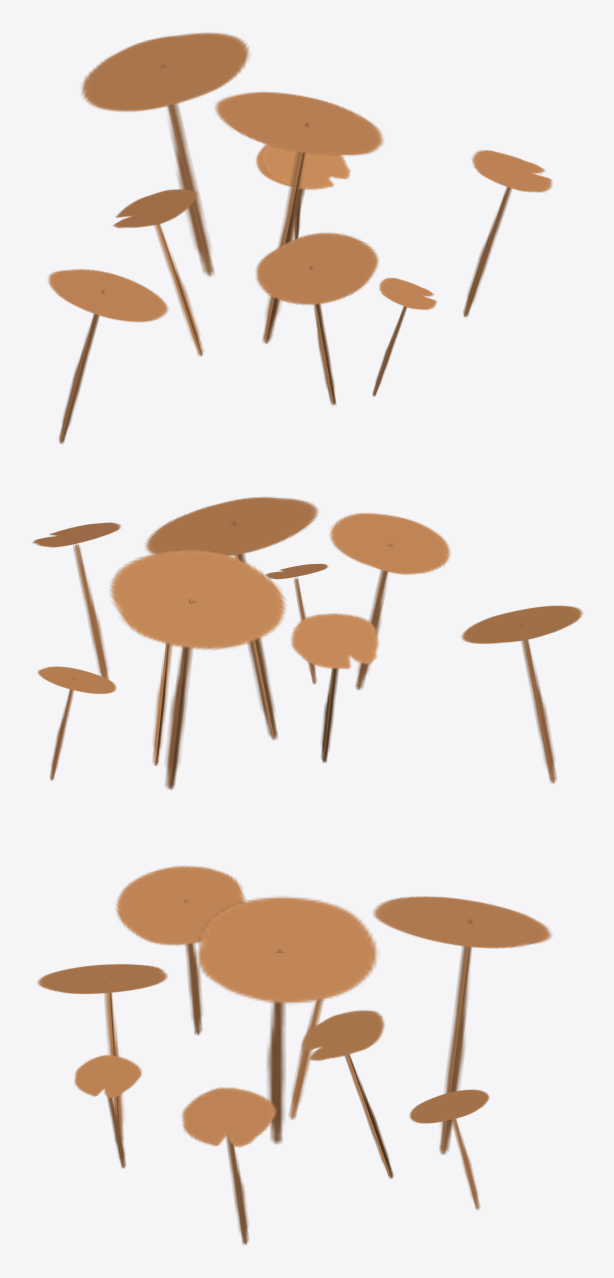
File: P_LilyPads.glb
3 renders of one model, top to bottom at view 1: azimuth 30°, elevation 25°; view 2: azimuth 150°, elevation 25°; view 3: azimuth 270°, elevation 25°, orthographic. The views are drawn at different scales.
Parts seen in each view (by area): view 1: P_Lilies; view 2: P_Lilies; view 3: P_Lilies.
Boxes of the visible parts, bbox=[...] form: P_Lilies: bbox=[48, 32, 552, 443]; P_Lilies: bbox=[32, 497, 582, 789]; P_Lilies: bbox=[37, 865, 551, 1244].
Size of the model in its own units: 0.7429 by 0.3257 by 0.65.
1 material, 1 textured.
